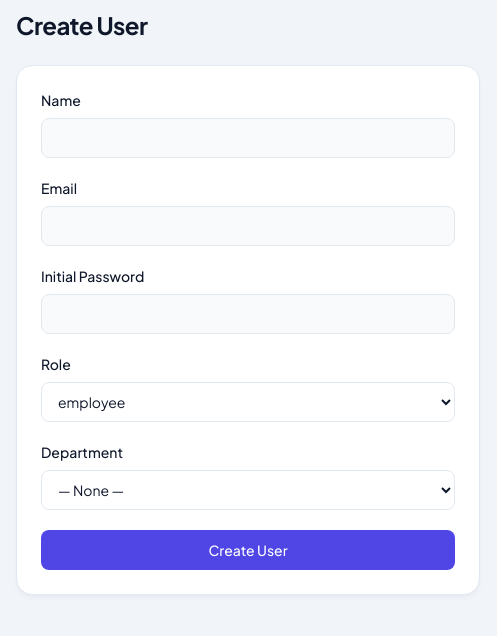
Test: UserFormPage › displays field-level validation errors from the backend
In the field labelled "Name": (248, 138) 41,118 -> 455,158, type "New Person"
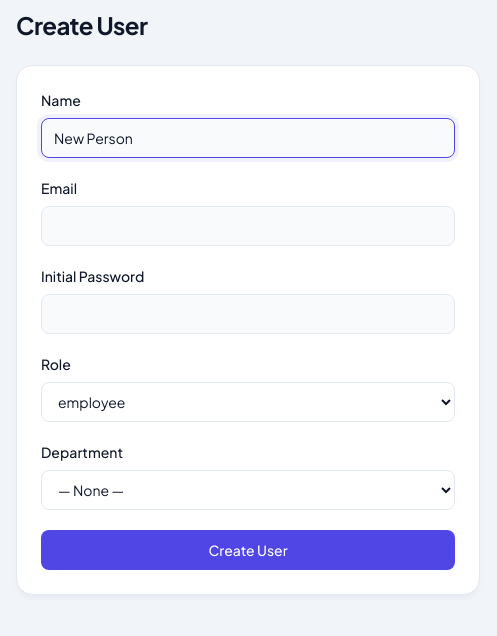
In the field labelled "Email": (248, 226) 41,206 -> 455,246, type "taken@example.com"
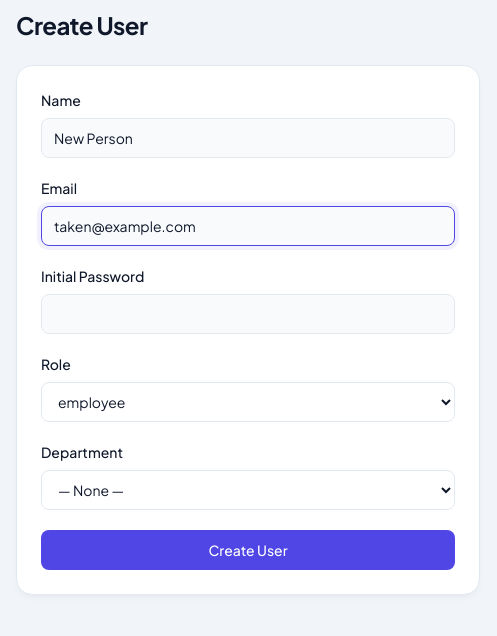
In the password field labelled "Initial Password": (248, 314) 41,294 -> 455,334, type "password123"
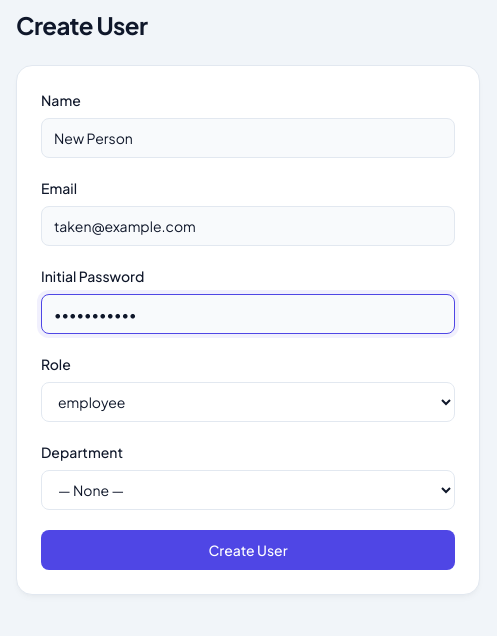
Click the button "Create User": (248, 550) 41,530 -> 455,570
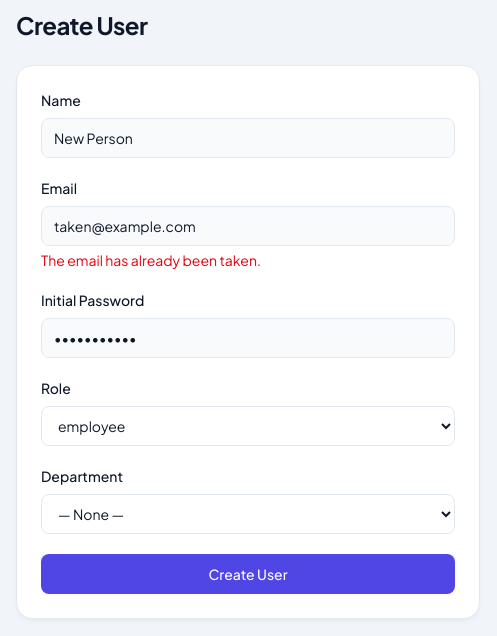
Now the text "The email has already been taken." is shown, box 41,251 -> 261,269
